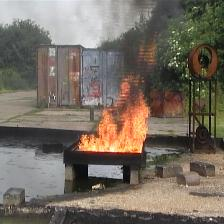fire: (78, 98, 148, 151)
smoke: (131, 3, 174, 79)
